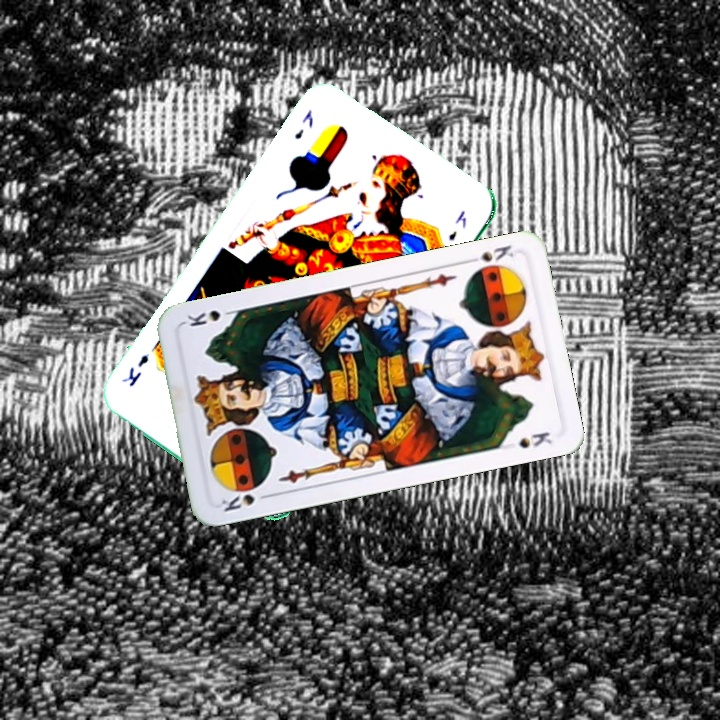EK: (290, 106, 316, 143)
SK: (217, 481, 274, 514), (462, 240, 516, 267)
